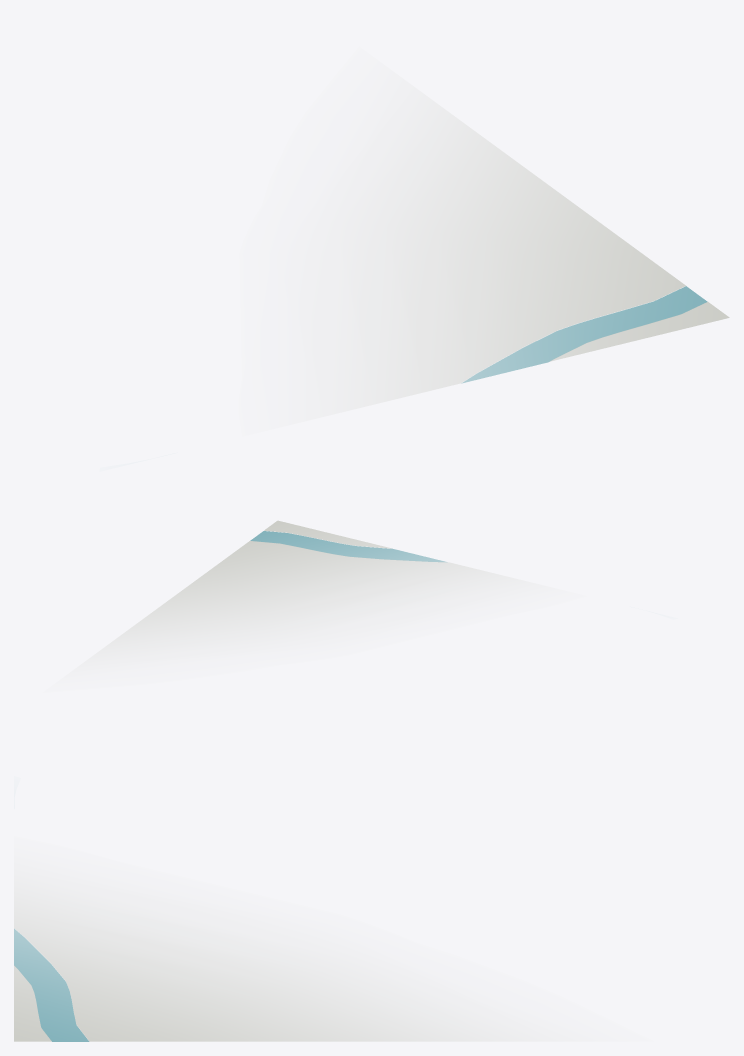
3 views of the same model, one above another, from view 1: azimuth 30°, elevation 25°; view 2: azimuth 150°, elevation 25°; view 3: azimuth 270°, elevation 25° (orthographic). The views are drawn at different scales.
Visible parts, largest first — view 1: city; view 2: city; view 3: city.
Boxes of the visible parts, x1=… form: city: x1=339, y1=96, x2=729, y2=412; city: x1=86, y1=520, x2=524, y2=661; city: x1=14, y1=877, x2=535, y2=1041.
Size of the model in its own units: 479 by 0.18 by 483.
